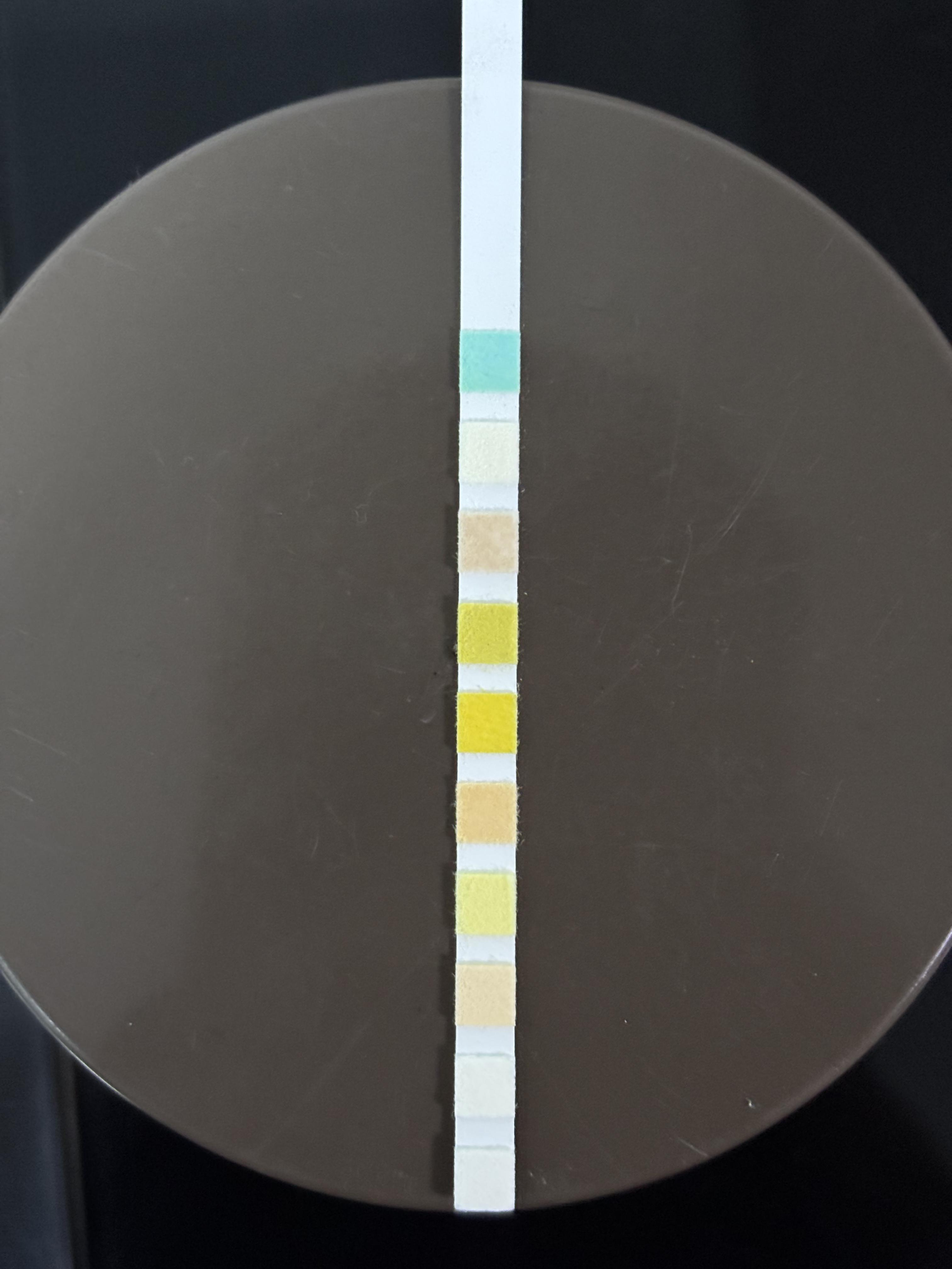Bilirubin: (461, 424, 517, 481)
Blood: (459, 695, 517, 750)
Glucose: (462, 332, 518, 391)
Ketone: (459, 517, 516, 570)
Leukocytes: (456, 1150, 512, 1209)
Nitrite: (456, 1059, 513, 1114)
Protein: (460, 876, 514, 934)
SpGravity: (460, 607, 515, 663)
Urobilinogen: (457, 968, 513, 1023)
pH: (458, 786, 516, 843)
strip: (457, 41, 520, 1212)
